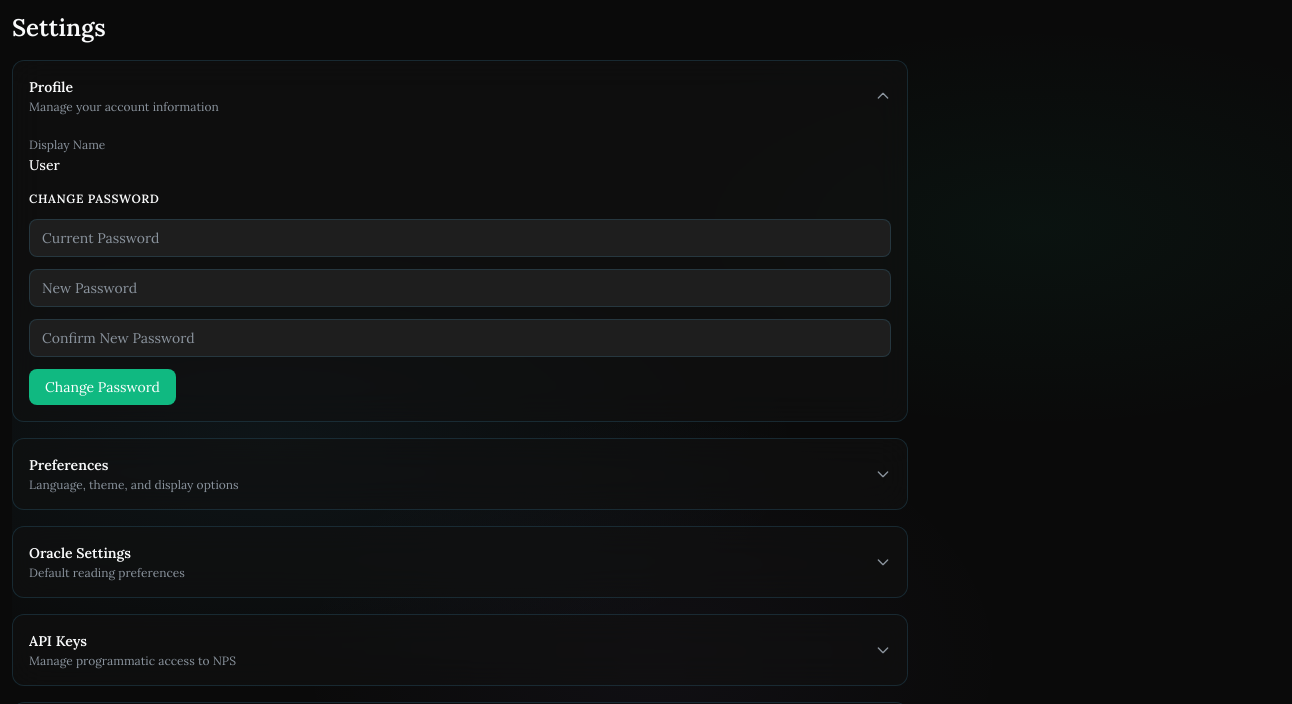
Test case: Settings Page › sections collapse and expand
Expected: the text "Display Name" is shown, left=29, top=137, right=105, bottom=152
# Click Profile header to collapse
What coordinates should you click on to do the following:
click the heading "Profile"
I would click on:
 (51, 87)
Its box is left=29, top=78, right=73, bottom=96.
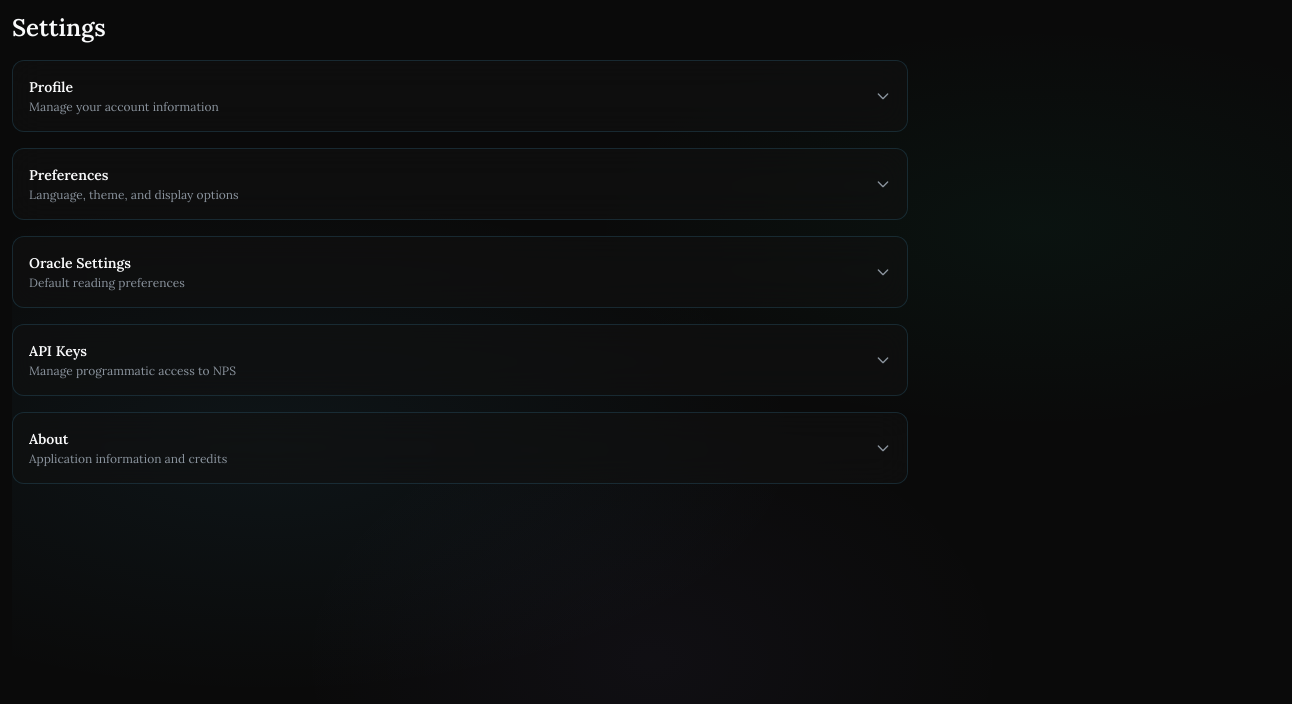
Now the text "Display Name" is gone
# Click to expand again
What coordinates should you click on to do the following:
click the heading "Profile"
I would click on:
 (51, 87)
Its box is left=29, top=78, right=73, bottom=96.
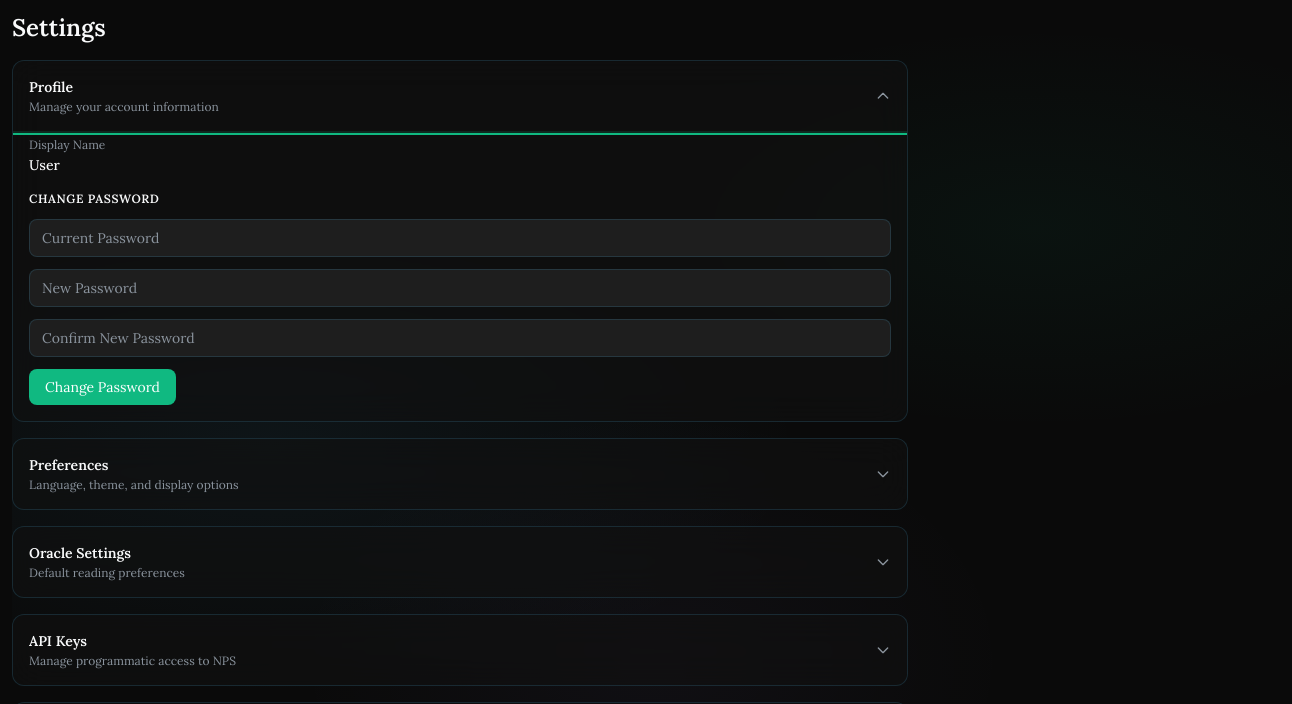
Now the text "Display Name" is shown, box left=29, top=137, right=105, bottom=152
